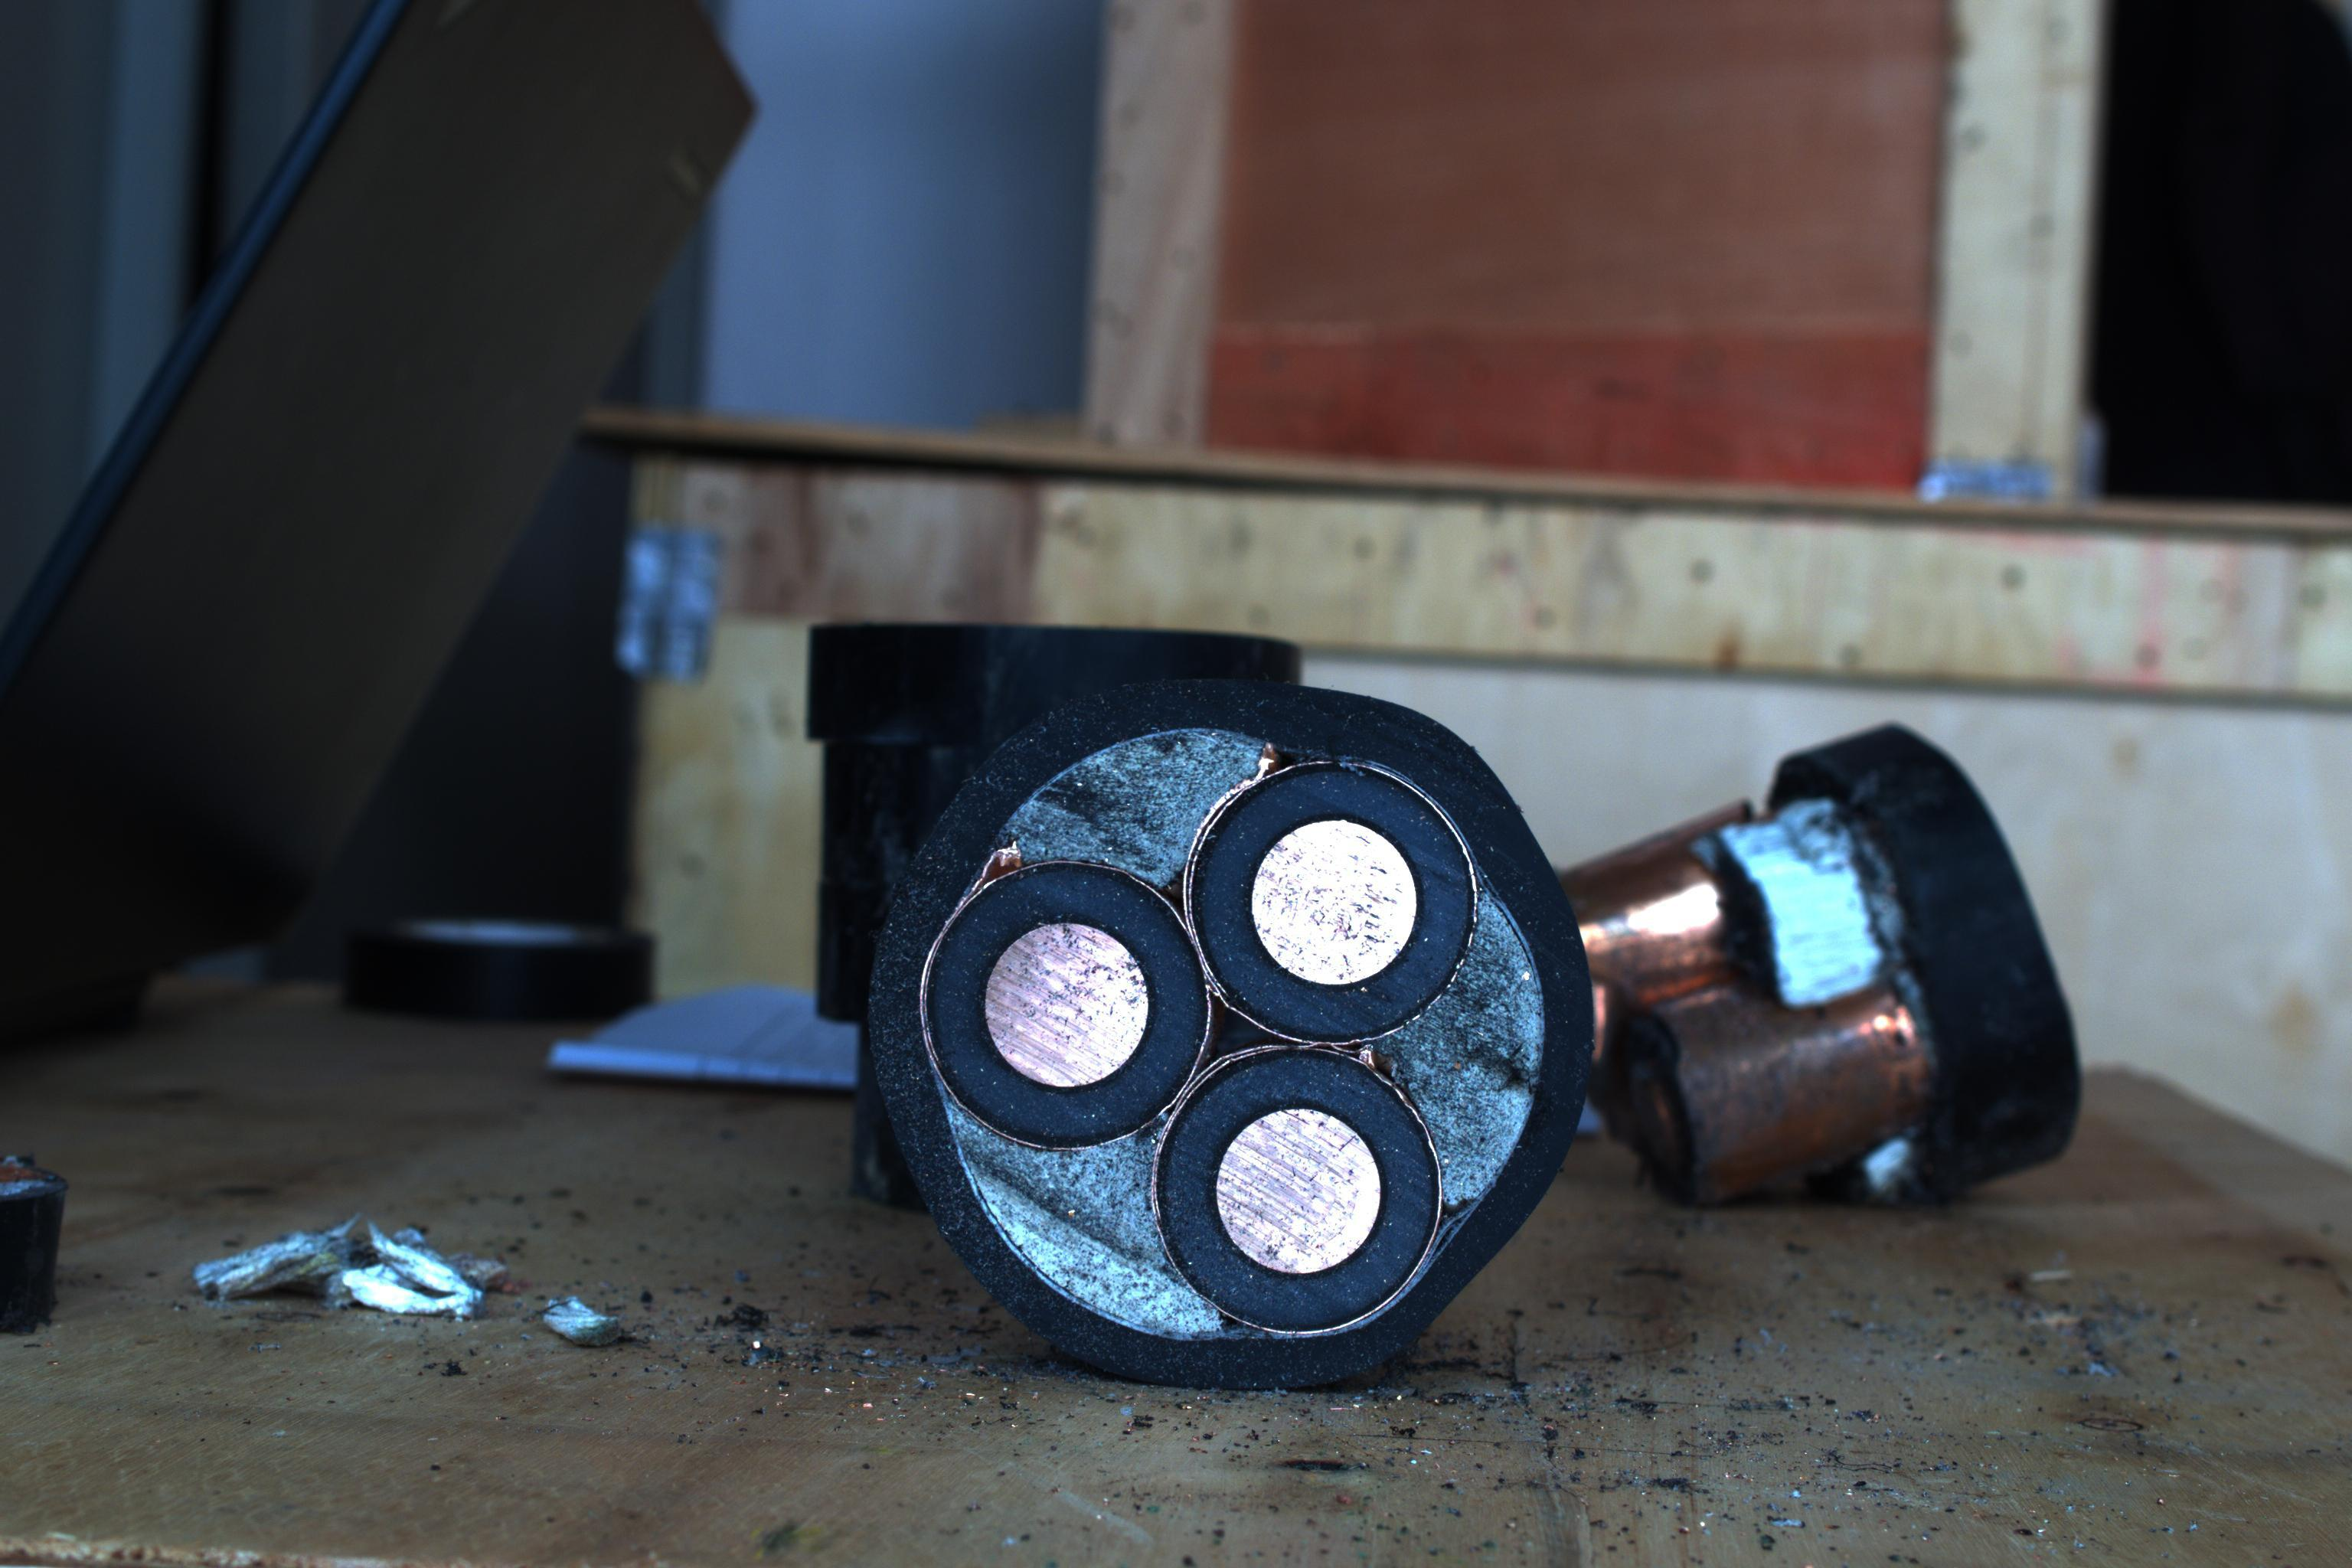ZA_YJV_8.7_10kV_3x240: (884, 700, 1606, 1410)
